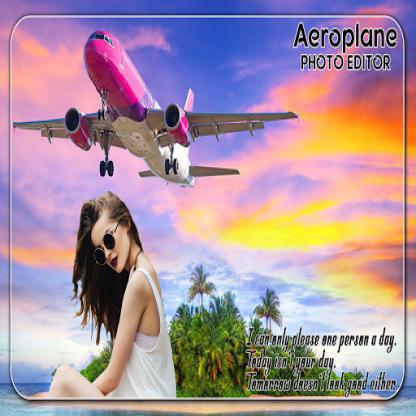CIV_Plane: (12, 24, 300, 198)
